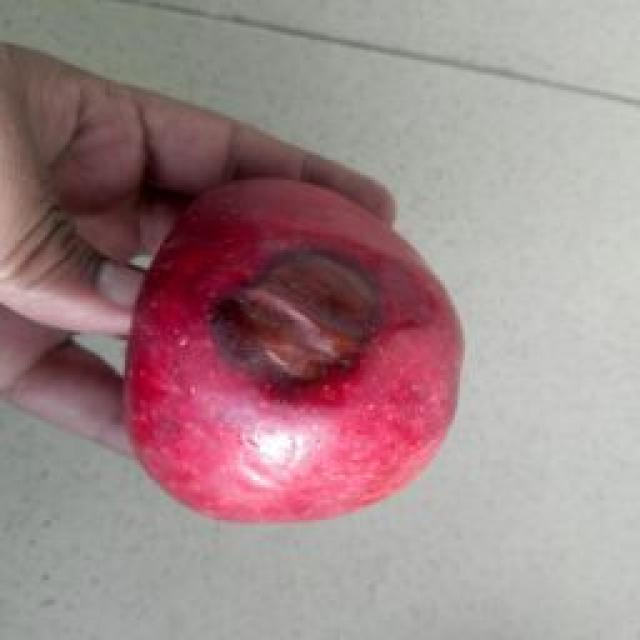Bad_Apple: (126, 179, 462, 522)
